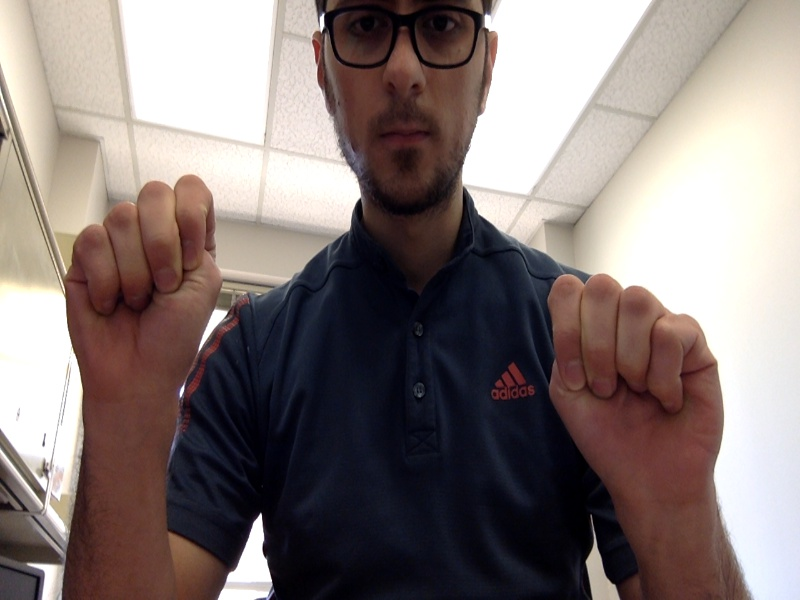0-hand: (547, 273, 724, 494), (66, 176, 221, 391)
